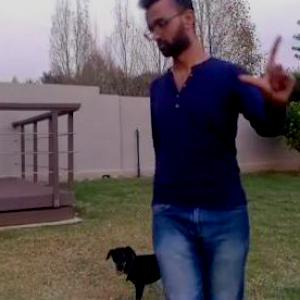land_hand: (241, 29, 300, 109)
